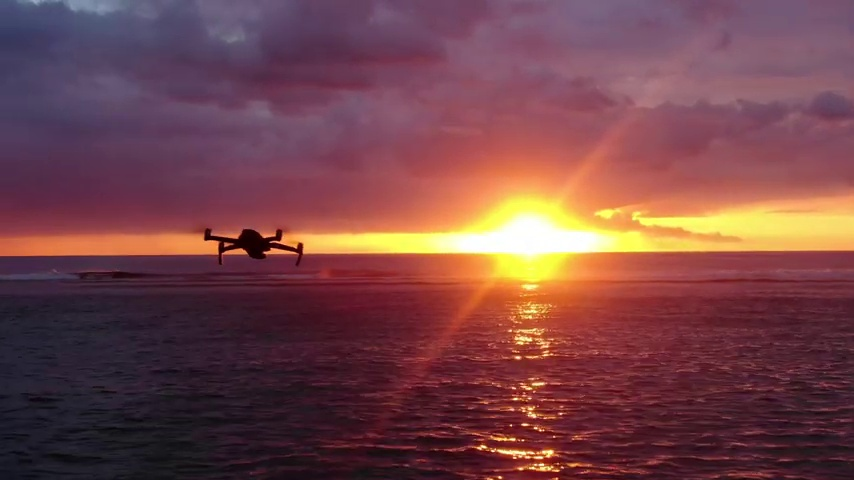drone: (202, 226, 303, 268)
